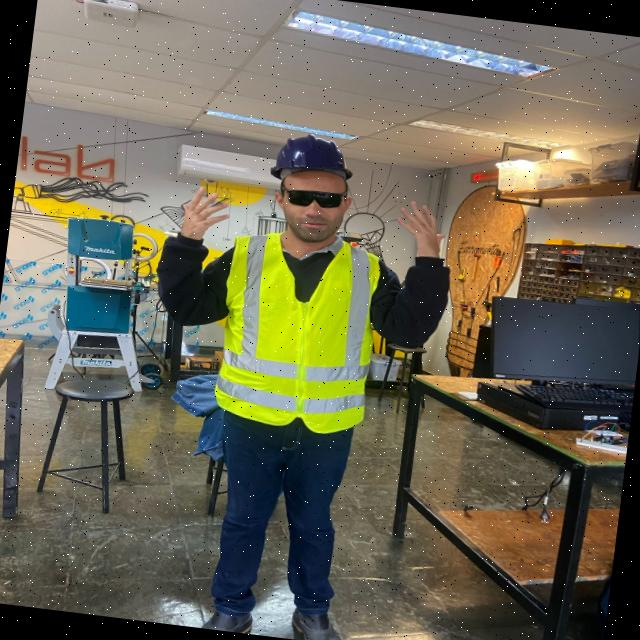BOTA: (290, 600, 347, 640), (196, 601, 257, 633)
CAPACETE: (268, 132, 356, 183)
COLETE: (211, 224, 379, 436)
OCULOS: (285, 190, 342, 210)
SEM LUVA: (390, 200, 452, 260), (176, 184, 236, 243)
